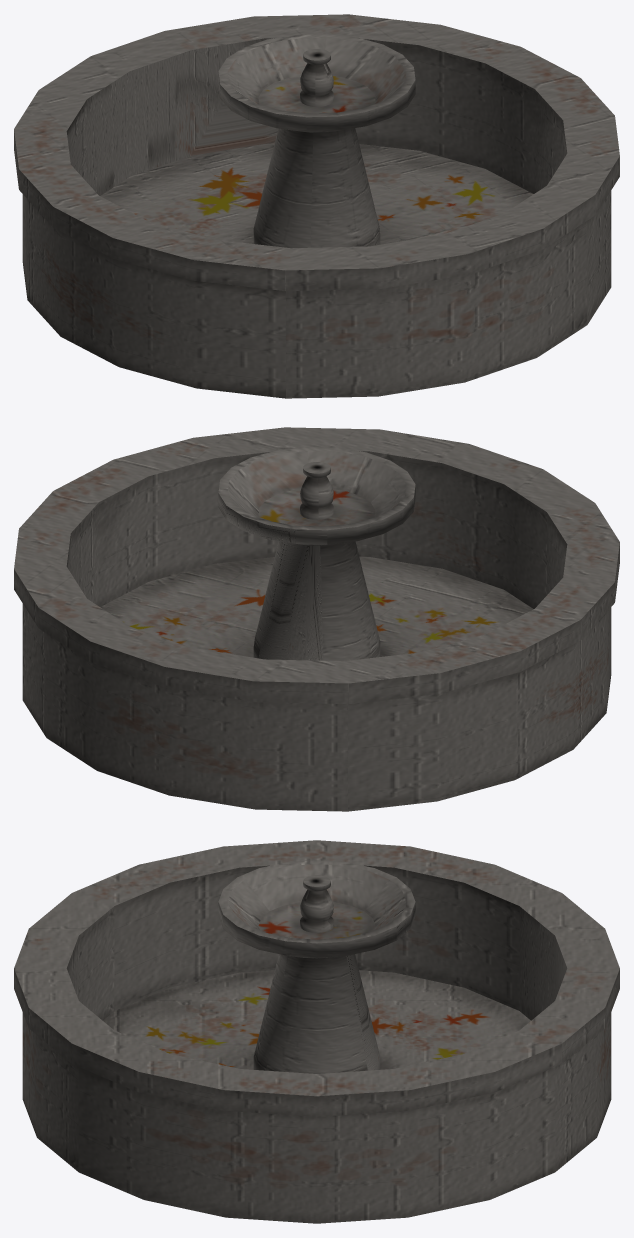
The model's file is fontän.fbx.
3 renders of one model, top to bottom at view 1: azimuth 30°, elevation 25°; view 2: azimuth 150°, elevation 25°; view 3: azimuth 270°, elevation 25°, orthographic.
Parts seen in each view (by area): view 1: pCylinder1; view 2: pCylinder1; view 3: pCylinder1.
Boxes of the visible parts, <box> form: pCylinder1: <box>14,14,619,398</box>; pCylinder1: <box>14,427,619,811</box>; pCylinder1: <box>14,840,619,1223</box>.
Size of the model in its own units: 80 by 31.78 by 80.
